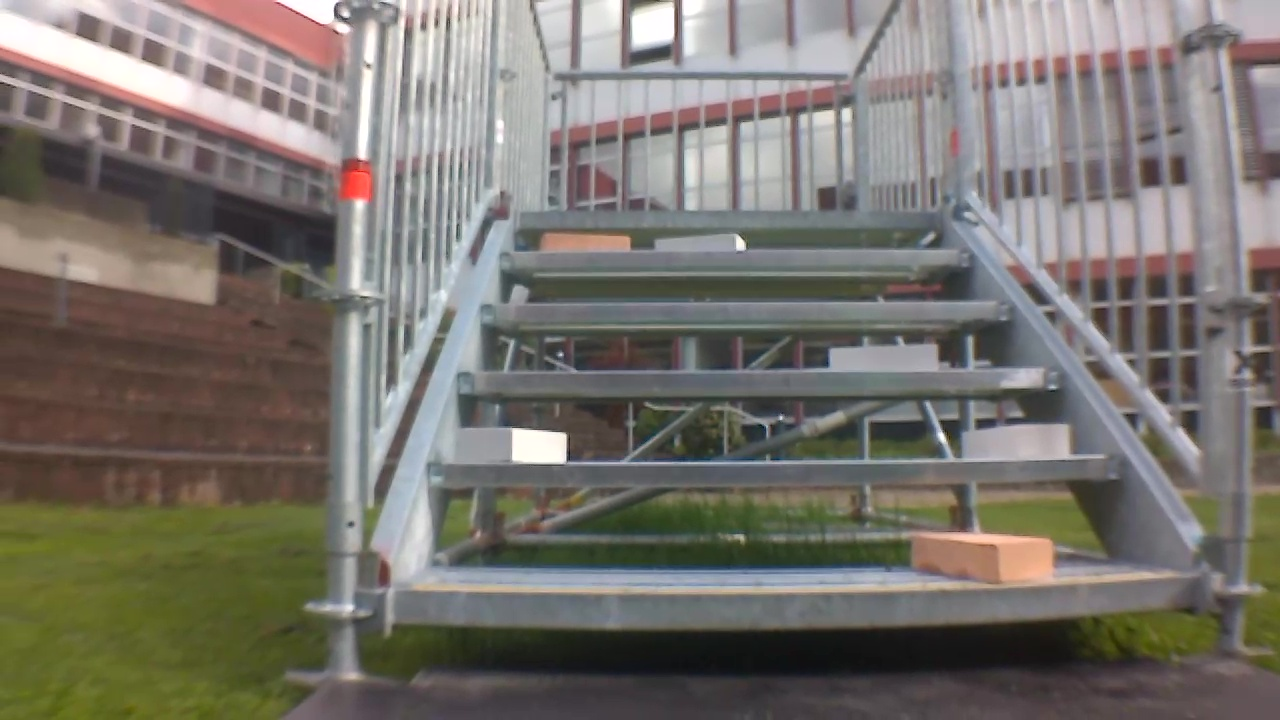brick: (912, 534, 1051, 582), (457, 426, 567, 463), (963, 425, 1068, 457), (830, 343, 936, 372), (540, 234, 630, 251), (656, 235, 744, 251)
edge: (390, 575, 1194, 626), (428, 454, 1125, 486), (457, 367, 1065, 395), (479, 301, 1014, 321), (502, 249, 976, 268), (517, 210, 944, 228)
stairs: (298, 2, 1272, 666)
steps: (384, 202, 1201, 638)
